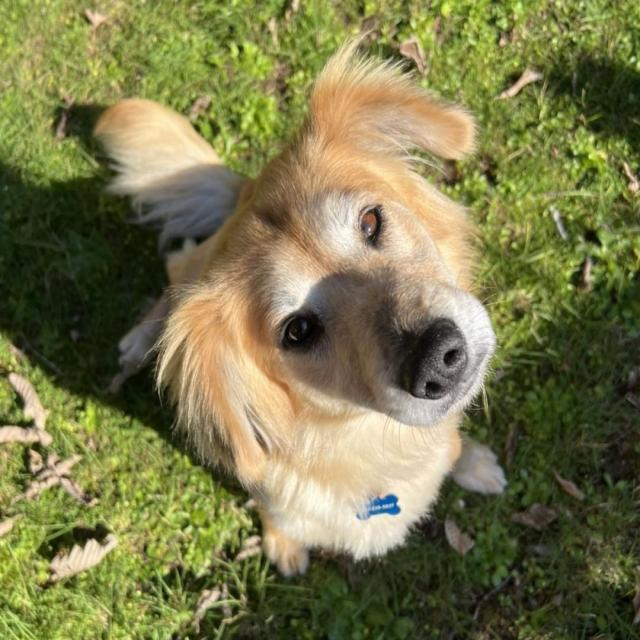golden_retriever_dog: (149, 46, 505, 498)
